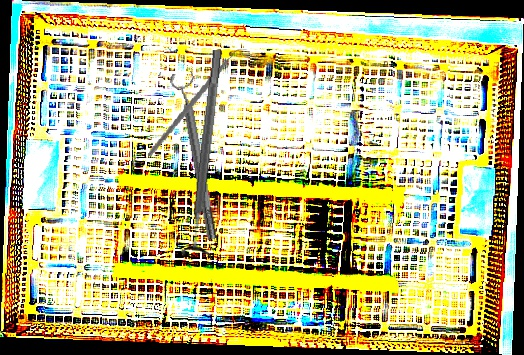Chopper: (148, 37, 249, 168)
Fixation Ring: (179, 48, 235, 259), (169, 70, 224, 242)
